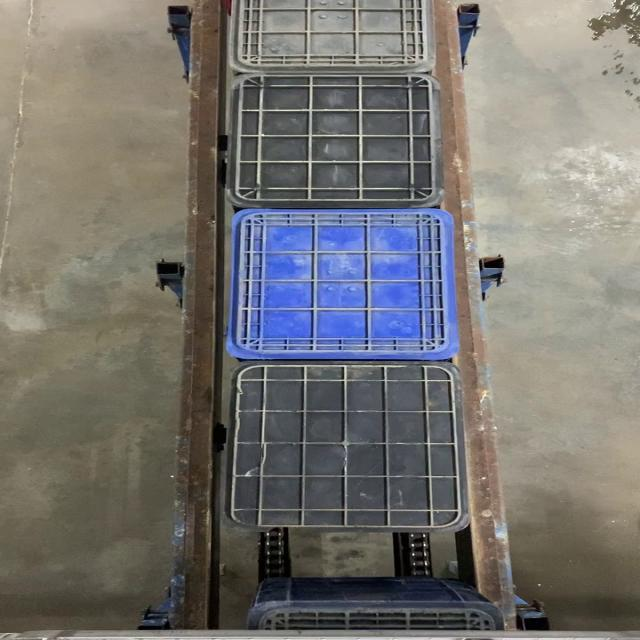Box: (220, 361, 473, 531), (227, 208, 458, 358), (224, 72, 448, 208)
